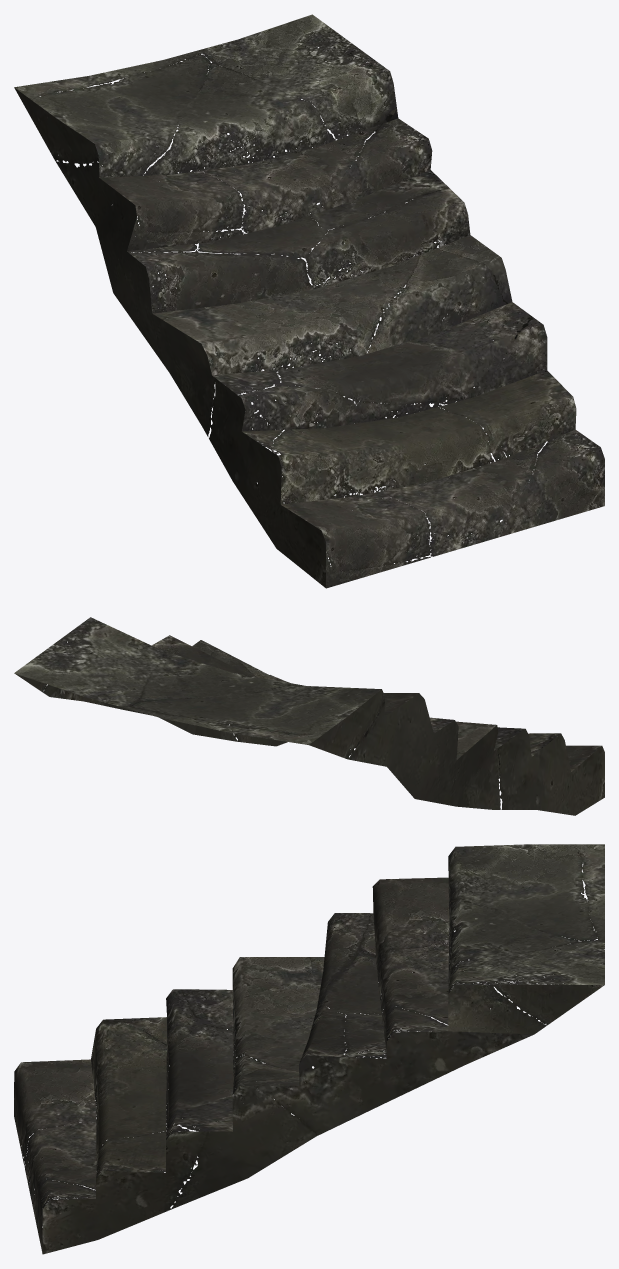
3 views of the same model, one above another, from view 1: azimuth 30°, elevation 25°; view 2: azimuth 150°, elevation 25°; view 3: azimuth 270°, elevation 25° (orthographic). The views are drawn at different scales.
Visible parts, largest first — view 1: SM_Greathall_Natural_Steps_02_LOD0; view 2: SM_Greathall_Natural_Steps_02_LOD0; view 3: SM_Greathall_Natural_Steps_02_LOD0.
Boxes of the visible parts, x1=… form: SM_Greathall_Natural_Steps_02_LOD0: x1=14, y1=14, x2=604, y2=588; SM_Greathall_Natural_Steps_02_LOD0: x1=14, y1=617, x2=604, y2=815; SM_Greathall_Natural_Steps_02_LOD0: x1=14, y1=844, x2=604, y2=1254.
Size of the model in its own units: 2.53 by 2.15 by 4.28.
Materials: 1 (1 with a texture image).
